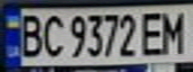2: (118, 10, 142, 58)
3: (84, 11, 106, 58)
7: (103, 11, 121, 58)
9: (63, 11, 87, 58)
B: (15, 11, 45, 58)
C: (39, 11, 66, 60)
E: (136, 8, 169, 56)
M: (157, 7, 190, 55)
